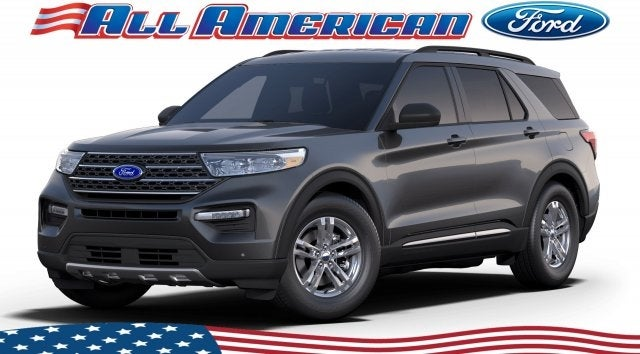Ford Explorer: (37, 47, 600, 320)
